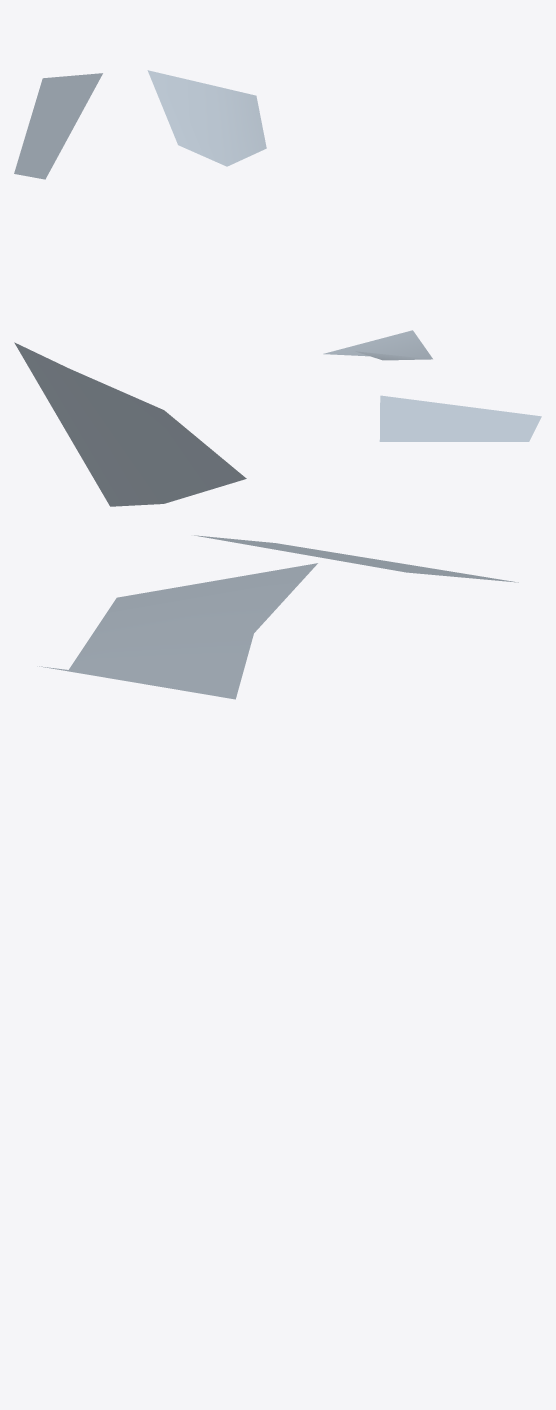
Rendered from plantar-cuneonavicular-ligaments-r.glb.
The picture shows the model from 3 angles, top to bottom: view 1: azimuth 30°, elevation 25°; view 2: azimuth 150°, elevation 25°; view 3: azimuth 270°, elevation 25°; orthographic projection. The views are drawn at different scales.
Visible parts, largest first — view 1: Plantar cuneonavicular ligaments.r; view 2: Plantar cuneonavicular ligaments.r; view 3: Plantar cuneonavicular ligaments.r.
Part boxes in pixels (x1,y1,x2,y2): Plantar cuneonavicular ligaments.r: [14, 70, 266, 179]; Plantar cuneonavicular ligaments.r: [14, 330, 541, 506]; Plantar cuneonavicular ligaments.r: [37, 535, 518, 699].
Bounding box in the file's own units: 0.0225 × 0.0116 × 0.00981.
